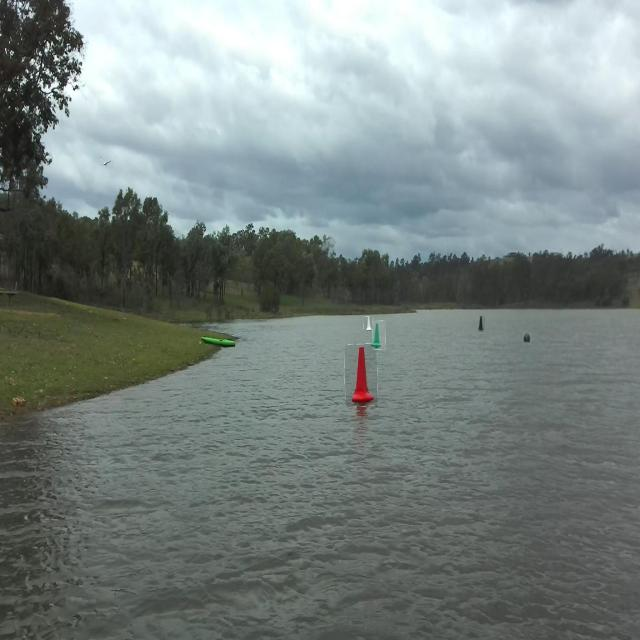Black_Buoy: (476, 313, 497, 346), (520, 328, 537, 353)
Green_Buoy: (375, 328, 384, 344)
Red_Buoy: (350, 348, 380, 415)
White_Buoy: (364, 313, 378, 330)
